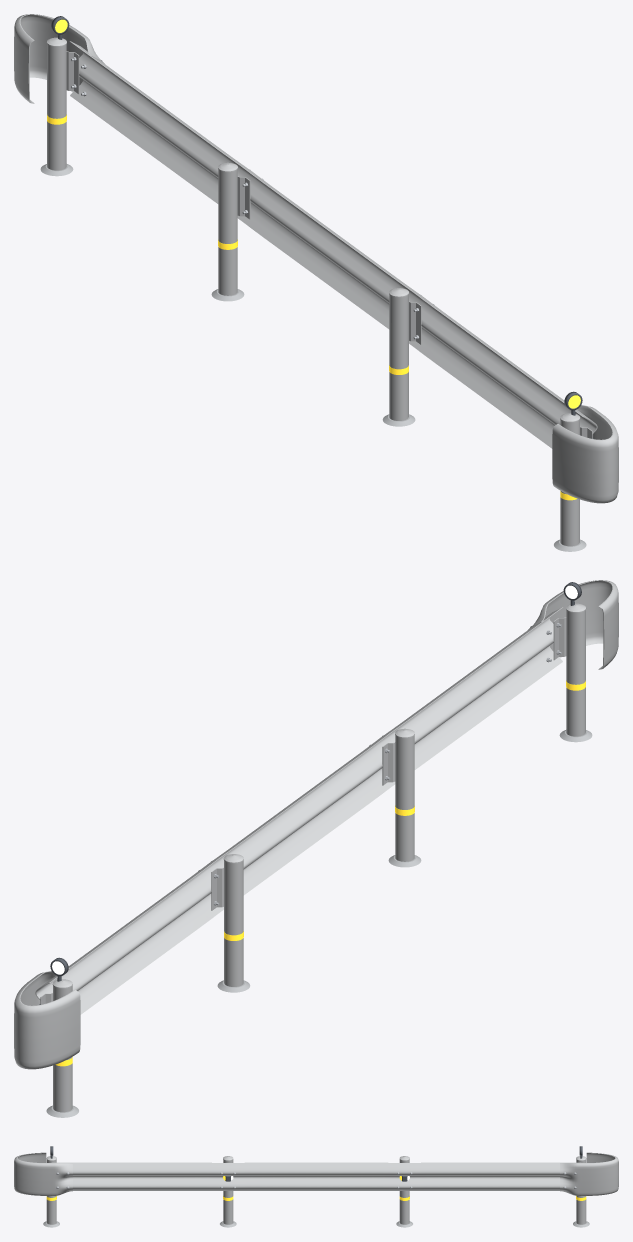
Rendered from guardrail.glb.
3 renders of one model, top to bottom at view 1: azimuth 30°, elevation 25°; view 2: azimuth 150°, elevation 25°; view 3: azimuth 270°, elevation 25°, orthographic. The views are drawn at different scales.
Visible parts, largest first — view 1: Guardrail_WBeam, Guardrail_Posts, Guardrail_Sleeve_Ends, Guardrail_Brackets_Bolts; view 2: Guardrail_WBeam, Guardrail_Posts, Guardrail_Sleeve_Ends, Guardrail_Brackets_Bolts; view 3: Guardrail_WBeam, Guardrail_Sleeve_Ends, Guardrail_Posts, Guardrail_Delineators.
Boxes of the visible parts, box(x1,y1,x2,y2) form: Guardrail_WBeam: box(70, 41, 597, 448); Guardrail_Posts: box(40, 37, 586, 551); Guardrail_Sleeve_Ends: box(14, 14, 618, 503); Guardrail_Brackets_Bolts: box(66, 51, 592, 438); Guardrail_WBeam: box(35, 607, 562, 1014); Guardrail_Posts: box(46, 603, 592, 1117); Guardrail_Sleeve_Ends: box(14, 580, 618, 1069); Guardrail_Brackets_Bolts: box(40, 617, 566, 1004); Guardrail_WBeam: box(52, 1162, 580, 1190); Guardrail_Sleeve_Ends: box(14, 1152, 618, 1195); Guardrail_Posts: box(43, 1156, 589, 1227); Guardrail_Delineators: box(50, 1146, 582, 1181).
Size of the model in its own units: 0.358 by 0.975 by 6.85.
